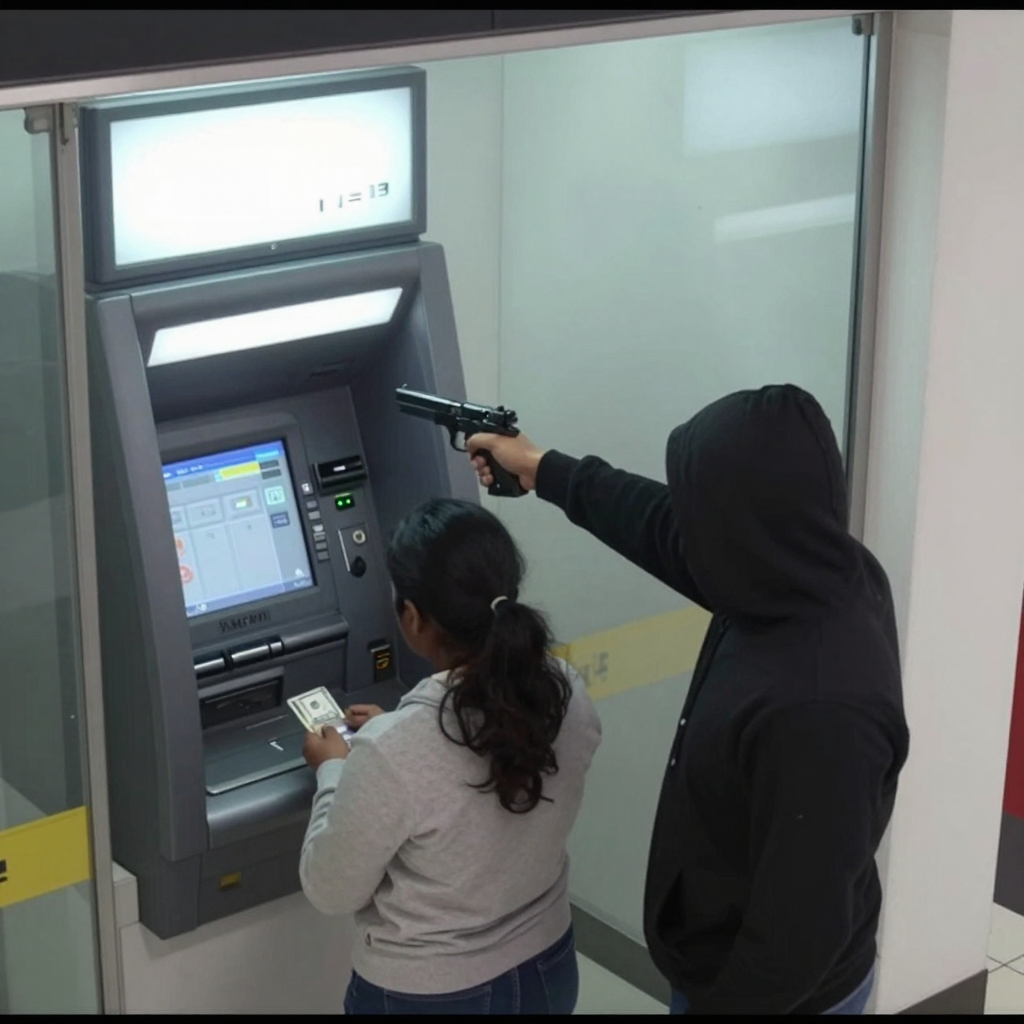Robbery: (463, 382, 911, 1015), (298, 497, 602, 1017)
Shooting: (392, 384, 527, 497)
